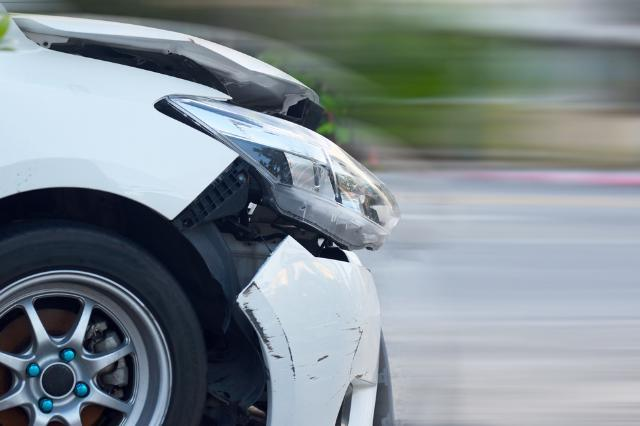Bonnet: (18, 13, 344, 102)
Bumper: (206, 242, 398, 426)
